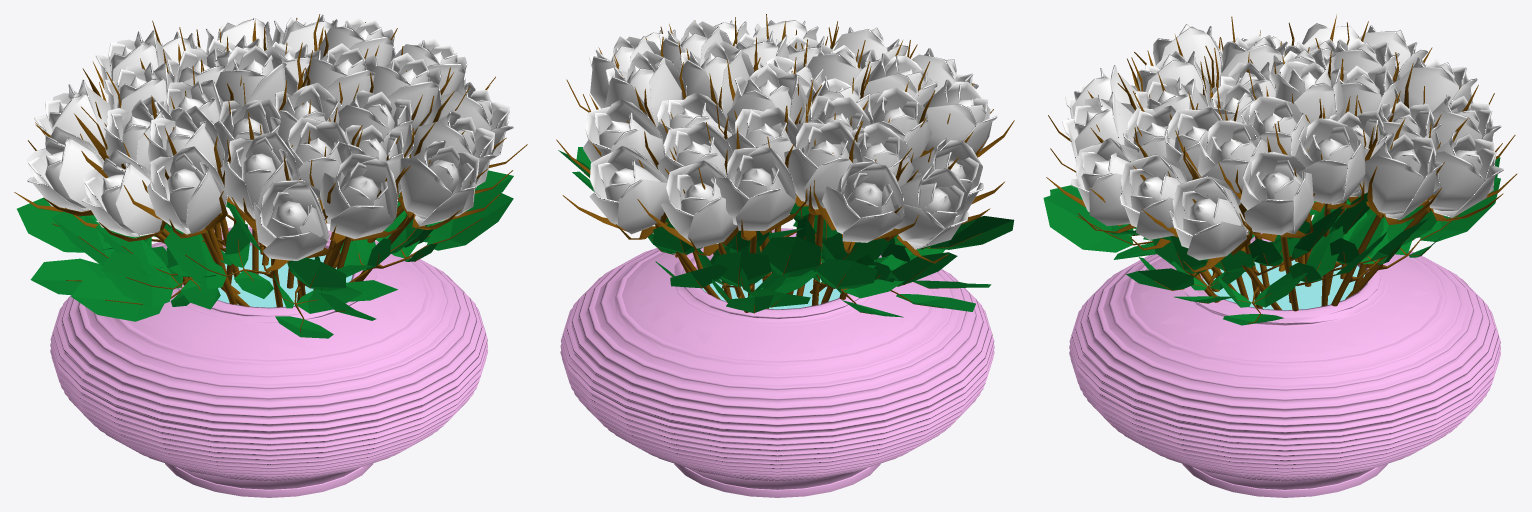
Rendered from bouquet_of_white_roses.glb.
3 renders of one model, left to right at view 1: azimuth 30°, elevation 25°; view 2: azimuth 150°, elevation 25°; view 3: azimuth 270°, elevation 25°, orthographic.
Parts seen in each view (by area): view 1: Material2 (×3), polySurface32, polySurface29, polySurface22, polySurface33, polySurface31, polySurface30, polySurface36, polySurface34, polySurface14, polySurface23, polySurface24 (+21 smaller); view 2: Material2 (×3), polySurface21, polySurface28, polySurface34, polySurface20, polySurface35, polySurface36, polySurface32, polySurface19, polySurface11, polySurface18, polySurface15 (+19 smaller); view 3: Material2 (×3), polySurface25, polySurface27, polySurface19, polySurface15, polySurface28, polySurface30, polySurface26, polySurface16, polySurface29, polySurface8, polySurface7 (+20 smaller).
Boxes of the visible parts, x1,y1,x2,y2 form: Material2 (×3): [50, 226, 487, 497]; polySurface32: [101, 127, 237, 309]; polySurface29: [354, 128, 513, 281]; polySurface22: [164, 110, 310, 307]; polySurface33: [65, 133, 249, 321]; polySurface31: [231, 155, 362, 338]; polySurface30: [309, 130, 410, 320]; polySurface36: [14, 106, 240, 295]; polySurface34: [17, 68, 164, 252]; polySurface14: [260, 99, 371, 301]; polySurface23: [95, 96, 233, 303]; polySurface24: [52, 91, 188, 285]; Material2 (×3): [560, 228, 994, 497]; polySurface21: [698, 126, 816, 307]; polySurface28: [562, 131, 733, 299]; polySurface34: [813, 136, 918, 317]; polySurface20: [767, 103, 888, 305]; polySurface35: [637, 148, 789, 313]; polySurface36: [809, 148, 990, 311]; polySurface32: [918, 61, 1014, 249]; polySurface19: [556, 89, 702, 272]; polySurface11: [706, 107, 823, 308]; polySurface18: [638, 112, 771, 299]; polySurface15: [572, 41, 709, 285]; Material2 (×3): [1069, 233, 1500, 497]; polySurface25: [1218, 137, 1387, 311]; polySurface27: [1142, 157, 1307, 325]; polySurface19: [1331, 118, 1443, 306]; polySurface15: [1274, 105, 1430, 306]; polySurface28: [1345, 118, 1516, 299]; polySurface30: [1043, 73, 1219, 291]; polySurface26: [1090, 137, 1258, 303]; polySurface16: [1175, 109, 1344, 308]; polySurface29: [1046, 127, 1219, 302]; polySurface8: [1217, 86, 1369, 302]; polySurface7: [1249, 56, 1357, 286].
Bounding box in the file's own units: 0.6592 × 0.5584 × 0.6186.
